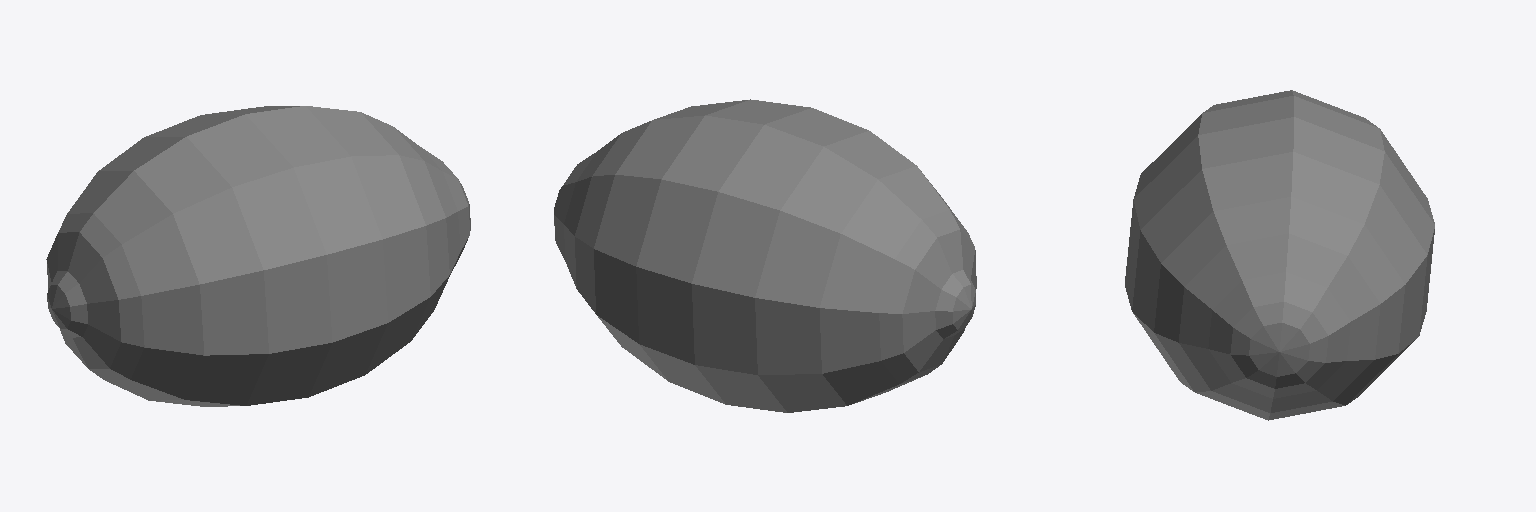
The model's file is Lemon.obj.
3 renders of one model, left to right at view 1: azimuth 30°, elevation 25°; view 2: azimuth 150°, elevation 25°; view 3: azimuth 270°, elevation 25°, orthographic.
Visible parts, largest first — view 1: Inst3D24_RefRep.205; view 2: Inst3D24_RefRep.205; view 3: Inst3D24_RefRep.205.
Boxes of the visible parts, box(x1,y1,x2,y2) form: Inst3D24_RefRep.205: box(46, 106, 470, 406); Inst3D24_RefRep.205: box(554, 99, 976, 412); Inst3D24_RefRep.205: box(1125, 90, 1434, 420).
Bounding box in the file's own units: 4.54 × 2.92 × 3.